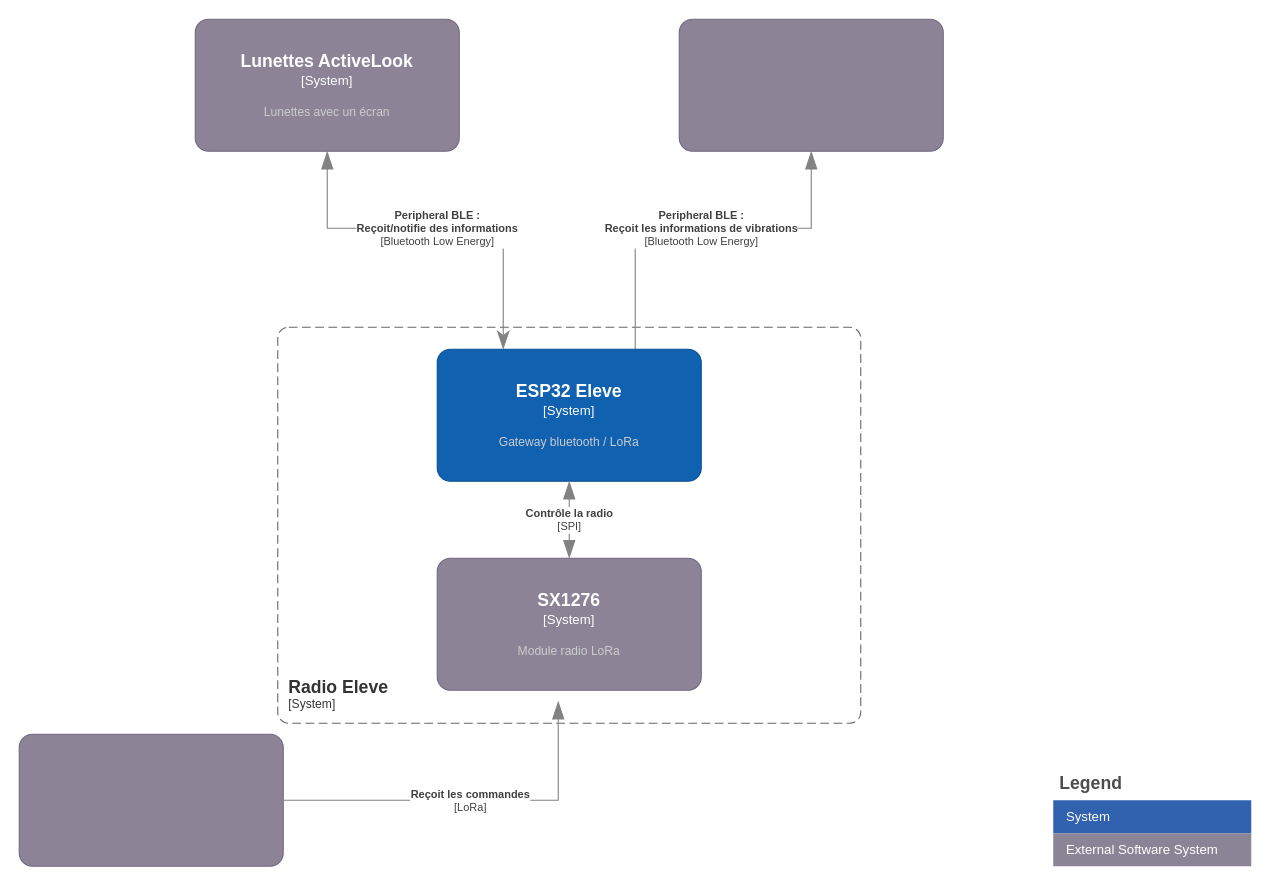
Some shapes in this 1271 by 886 pixel diagram are drawn without their labels. Each missing label, with the box of its shape:
Emetteur [System]: (18, 733, 283, 866)
Vibreurs [System] Système de vibrations: (678, 18, 943, 151)
